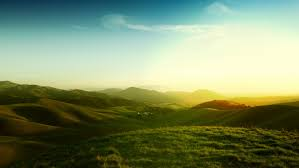field: (7, 87, 299, 167)
sky: (3, 3, 299, 92)
